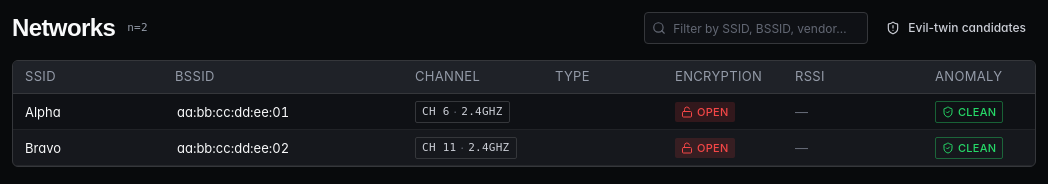
Test: NetworksView › filters by SSID
The width and height of the screenshot is (1048, 184).
Expected: the text "Alpha" is shown, [25,102,61,122]
Type "brav" into the field with placeholder "Filter by SSID, BSSID, vendor…".
click(756, 28); type("brav")  # box [644,12,868,44]
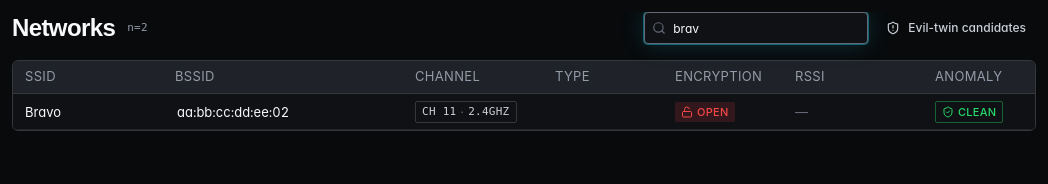
Expected: the text "Bravo" is shown, [25,102,61,122]
Result: the text "Alpha" is gone
